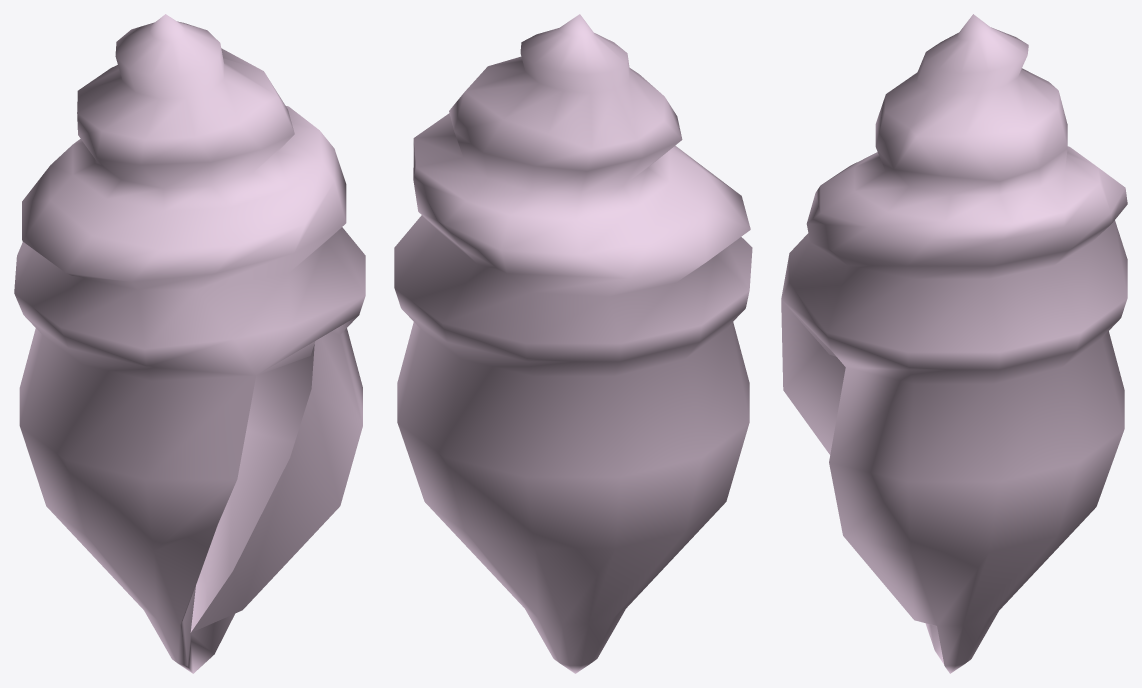
File: conch.glb
3 renders of one model, left to right at view 1: azimuth 30°, elevation 25°; view 2: azimuth 150°, elevation 25°; view 3: azimuth 270°, elevation 25°, orthographic. The views are drawn at different scales.
Visible parts, largest first — view 1: Cylinder01_0; view 2: Cylinder01_0; view 3: Cylinder01_0.
Boxes of the visible parts, left/top/right/bottom form: Cylinder01_0: left=14, top=14, right=365, bottom=673; Cylinder01_0: left=394, top=14, right=752, bottom=673; Cylinder01_0: left=781, top=14, right=1127, bottom=673.
Size of the model in its own units: 0.7466 by 1.55 by 0.7453.
